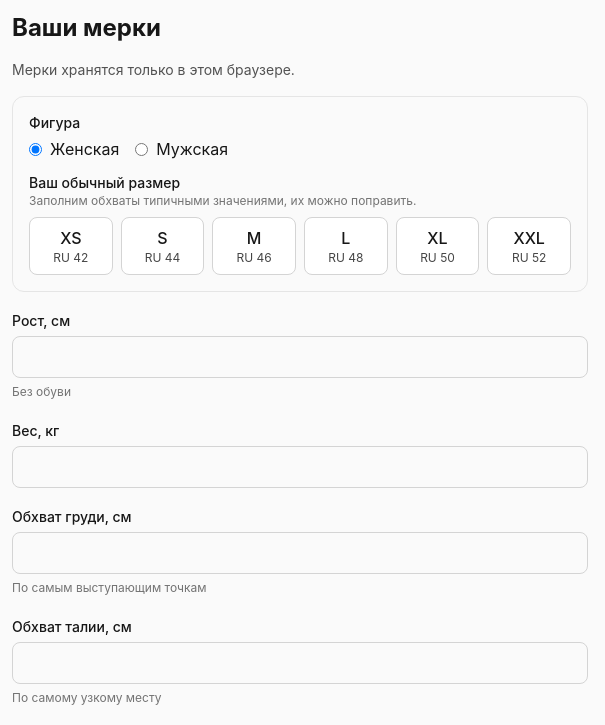
MeasurementsPage: быстрый выбор размера › пересчитывает значения при смене фигуры и не трогает рост
This screenshot has width=605, height=725.
In the field labelled "Рост, см Без обуви": {"x": 300, "y": 357} [12, 336, 588, 378], type "180"
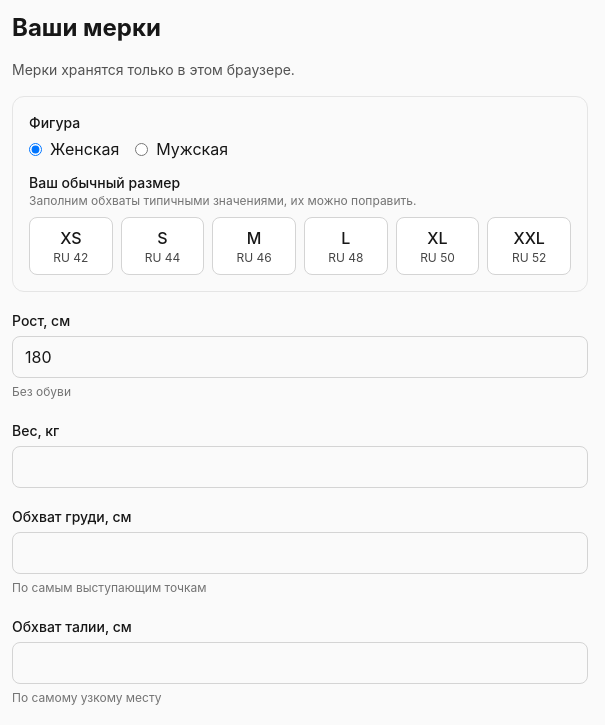
Click the button "L RU 48": {"x": 346, "y": 246} [304, 217, 388, 275]
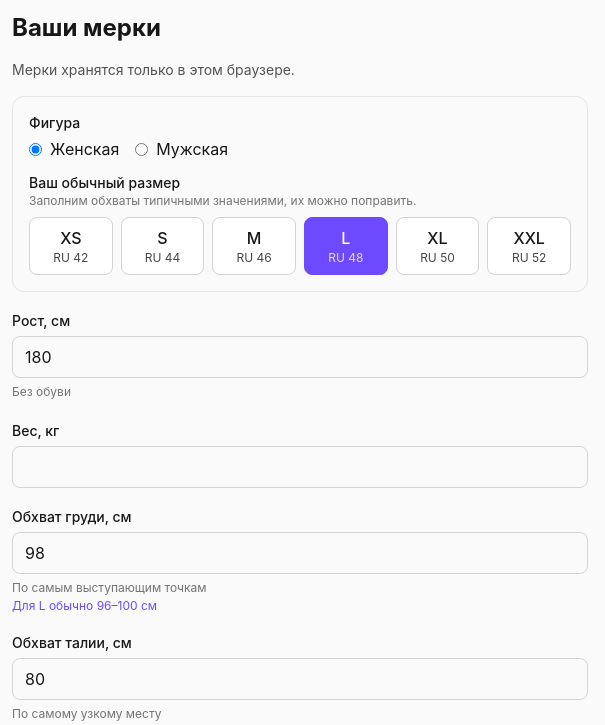
Click the radio button labelled "Мужская": {"x": 142, "y": 149} [135, 142, 148, 156]
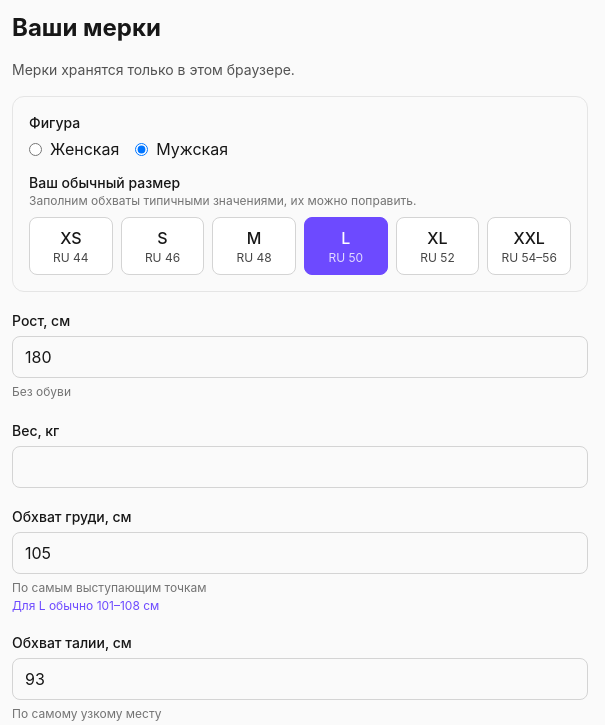
expect the field labelled "Обхват груди" holds "105": met, box [12, 532, 588, 574]
expect the button "L RU 50" is shown: met, box [304, 217, 388, 275]
